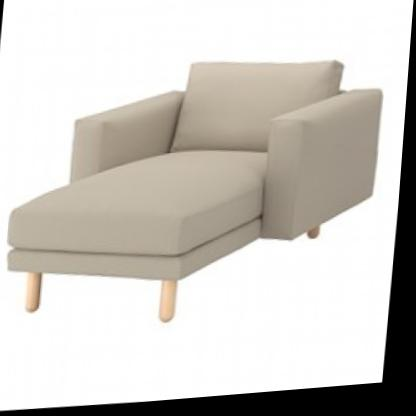Sofa: (0, 28, 394, 357)
